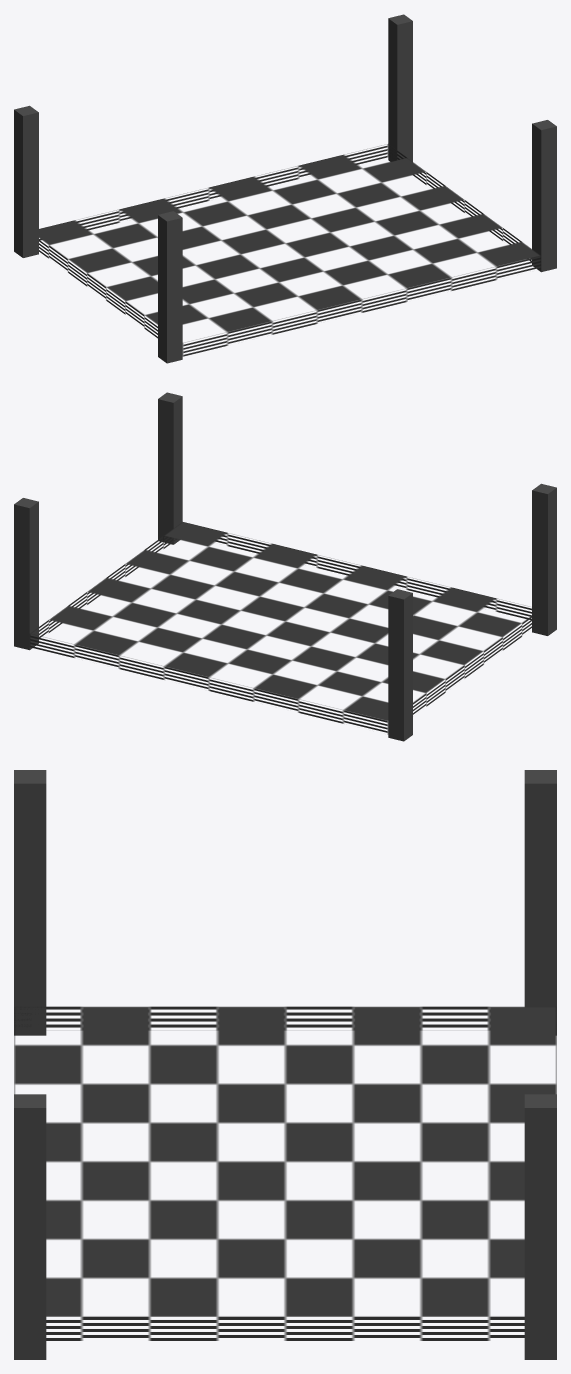
File: boltlessshelf.glb
3 renders of one model, top to bottom at view 1: azimuth 30°, elevation 25°; view 2: azimuth 150°, elevation 25°; view 3: azimuth 270°, elevation 25°, orthographic. The views are drawn at different scales.
Parts seen in each view (by area): view 1: Cube; view 2: Cube; view 3: Cube.
Part boxes in pixels (x1=…): Cube: x1=14, y1=14, x2=556, y2=363; Cube: x1=14, y1=392, x2=556, y2=741; Cube: x1=14, y1=770, x2=556, y2=1359.
Bounding box in the file's own units: 2.94 × 1.02 × 2.
2 materials, 1 textured.
